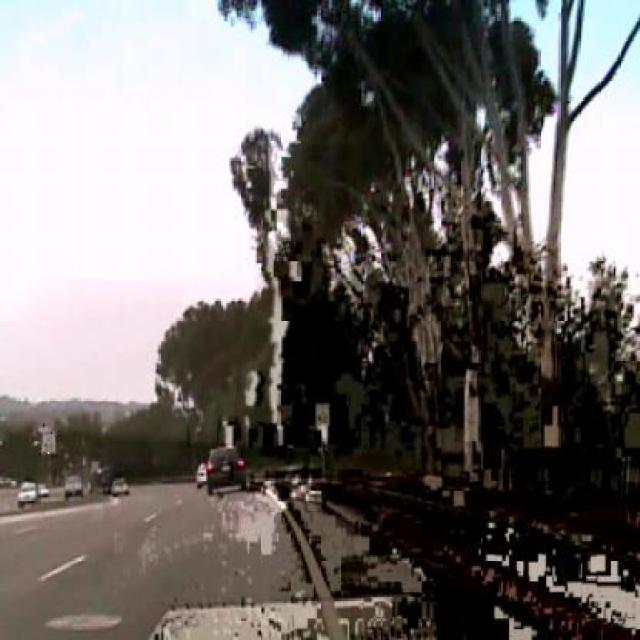speedLimitUrdbl: (40, 424, 55, 454)
